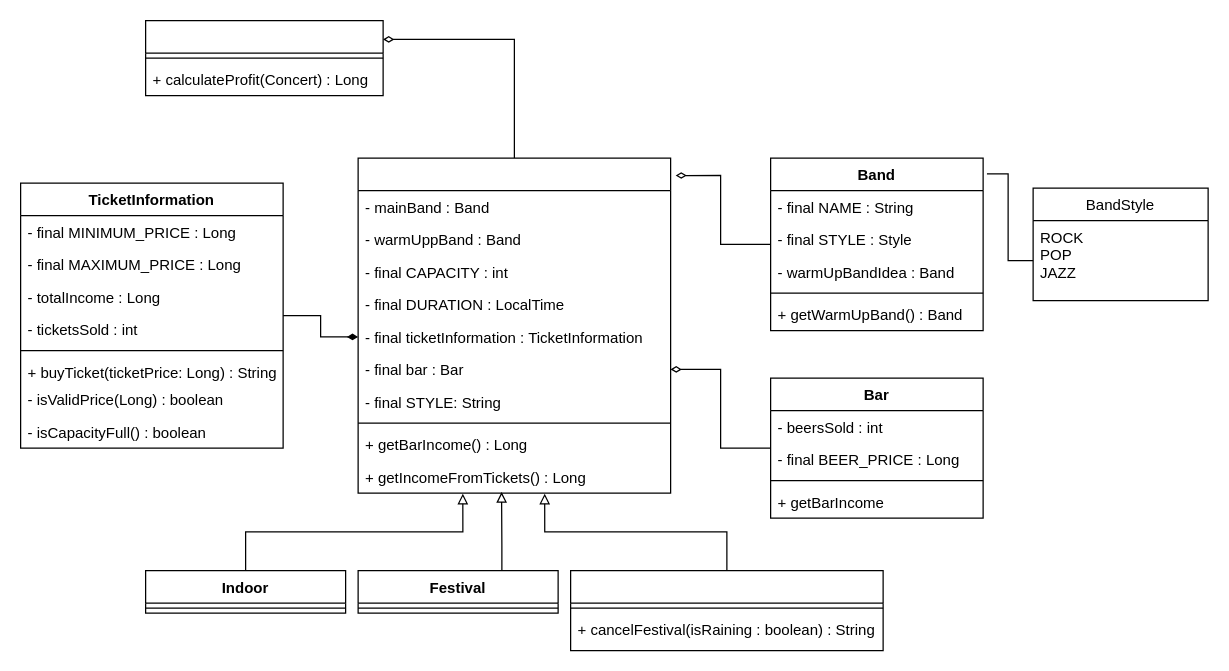
Image size: 1229x671. Some labels were removed from this diagram. Each missing label, with the box of its shape:
Company: (144, 19, 383, 96)
Concert: (357, 157, 671, 493)
Outdoor: (569, 569, 883, 651)
